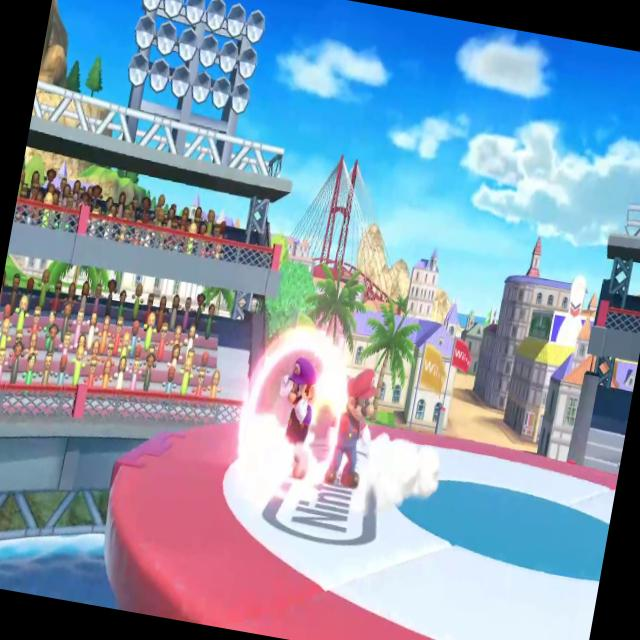Mario: (312, 358, 385, 498)
Mario-guard: (258, 350, 330, 488)
